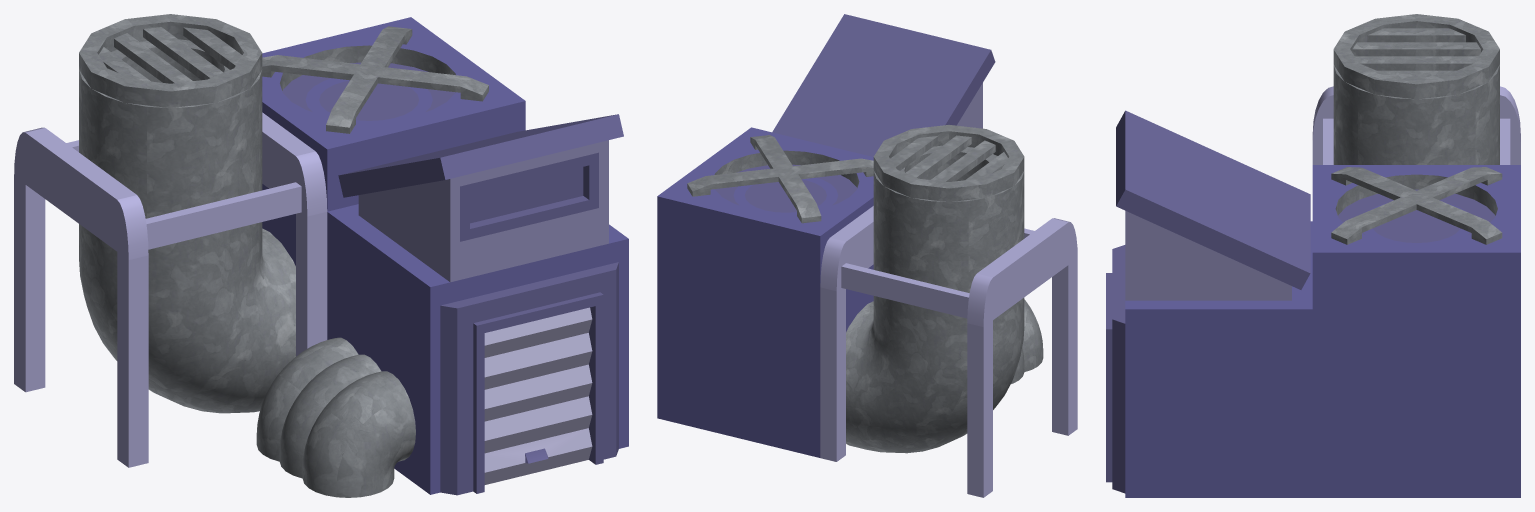
The model's file is Smelter.fbx.
3 views of the same model, side by side, from view 1: azimuth 30°, elevation 25°; view 2: azimuth 150°, elevation 25°; view 3: azimuth 270°, elevation 25° (orthographic). The views are drawn at different scales.
Parts seen in each view (by area): view 1: mergedBlocks; view 2: mergedBlocks; view 3: mergedBlocks.
Boxes of the visible parts, left/top/right/bottom form: mergedBlocks: left=14, top=14, right=628, bottom=497; mergedBlocks: left=657, top=14, right=1077, bottom=497; mergedBlocks: left=1106, top=14, right=1520, bottom=497.
Size of the model in its own units: 20 by 17.8 by 19.93.
6 materials, 1 textured.
